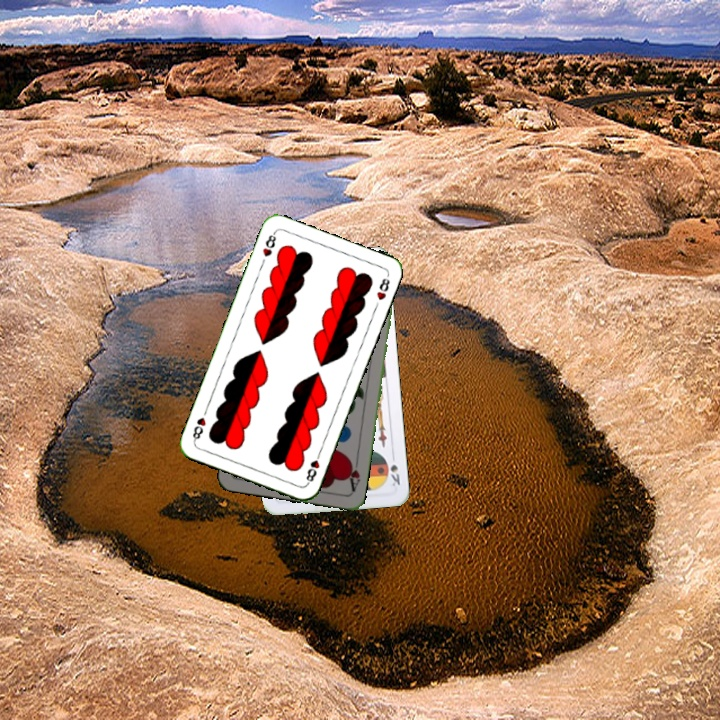H8: (302, 447, 323, 487), (259, 228, 279, 259)
HA: (343, 454, 362, 494)
SK: (386, 449, 403, 489)
